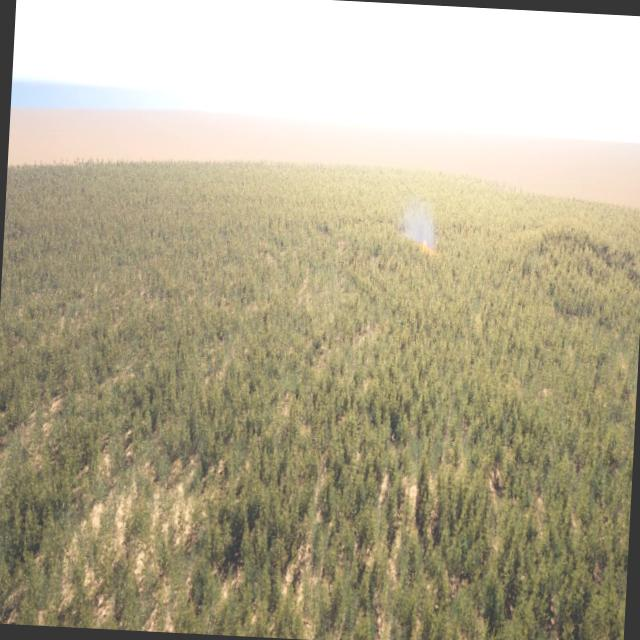fire: (421, 235, 434, 254)
smoke: (401, 204, 443, 258)
